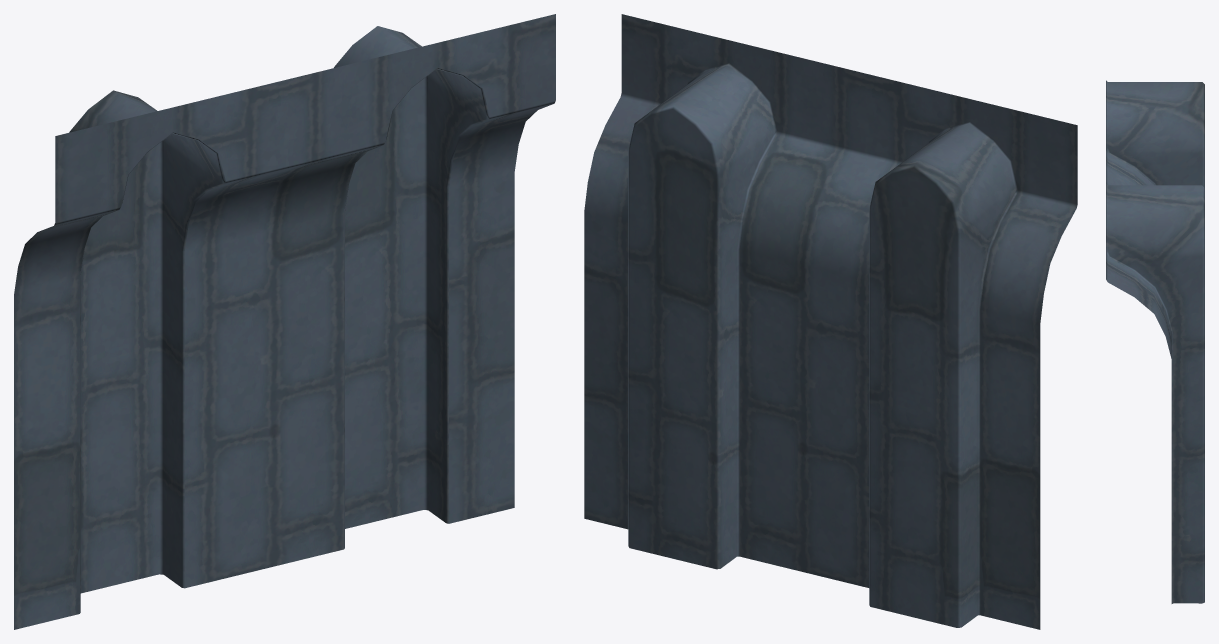
The model's file is Wall_IndentTopFullHeight.fbx.
The picture shows the model from 3 angles, left to right: view 1: azimuth 30°, elevation 25°; view 2: azimuth 150°, elevation 25°; view 3: azimuth 270°, elevation 25°; orthographic projection. The views are drawn at different scales.
Visible parts, largest first — view 1: Wall_IndentTopFullHeight; view 2: Wall_IndentTopFullHeight; view 3: Wall_IndentTopFullHeight.
Part boxes in pixels (x1,y1,x2,y2): Wall_IndentTopFullHeight: [14, 14, 555, 629]; Wall_IndentTopFullHeight: [584, 14, 1077, 629]; Wall_IndentTopFullHeight: [1106, 80, 1204, 603].
Bounding box in the file's own units: 500 × 500 × 107.
Materials: 1 (1 with a texture image).
